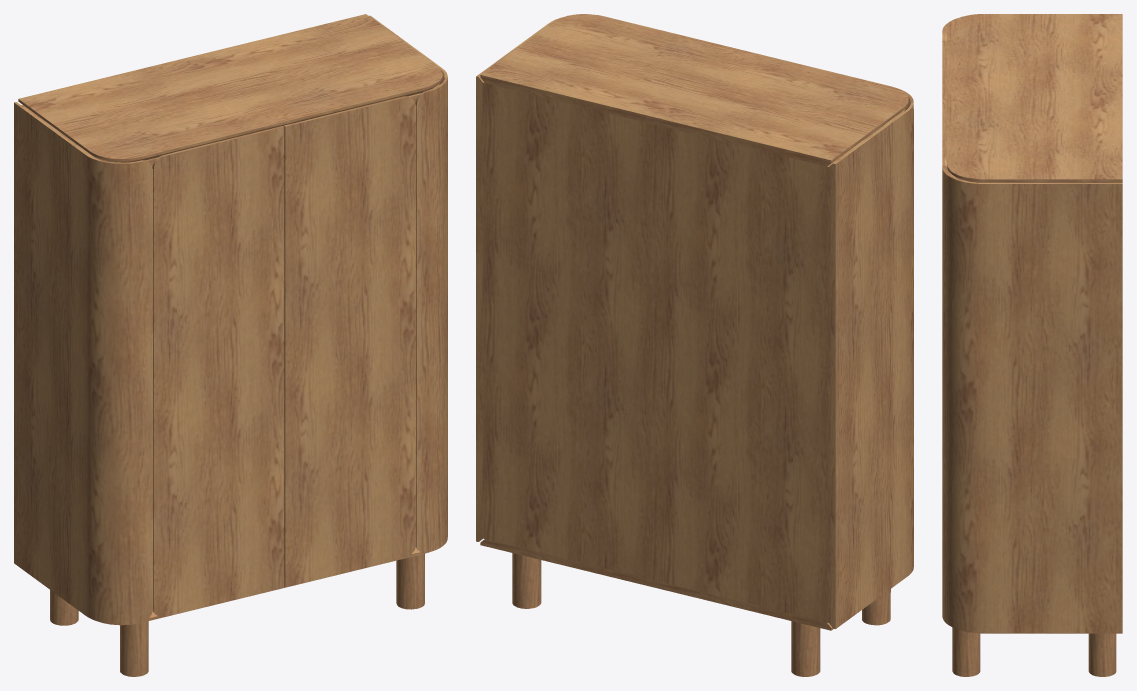
Rendered from sideboard-v3.glb.
3 renders of one model, left to right at view 1: azimuth 30°, elevation 25°; view 2: azimuth 150°, elevation 25°; view 3: azimuth 270°, elevation 25°, orthographic. The views are drawn at different scales.
Size of the model in its own units: 1 by 1.4 by 0.45.
Materials: 2 (2 with a texture image).
